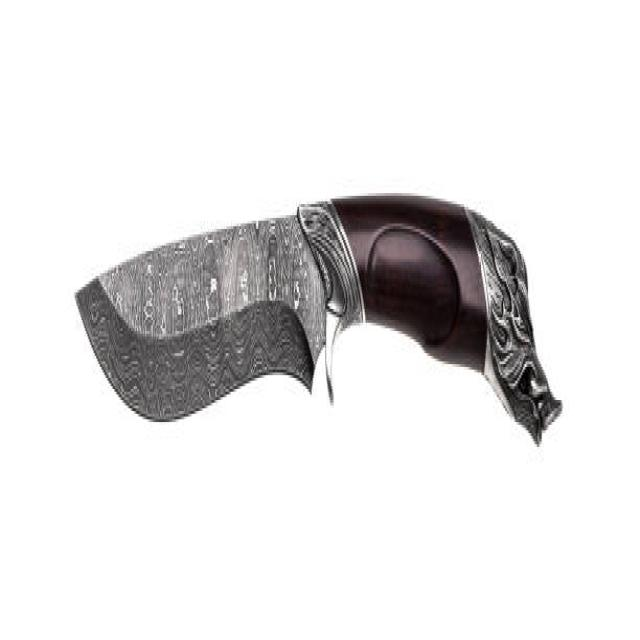knife: (73, 179, 563, 474)
